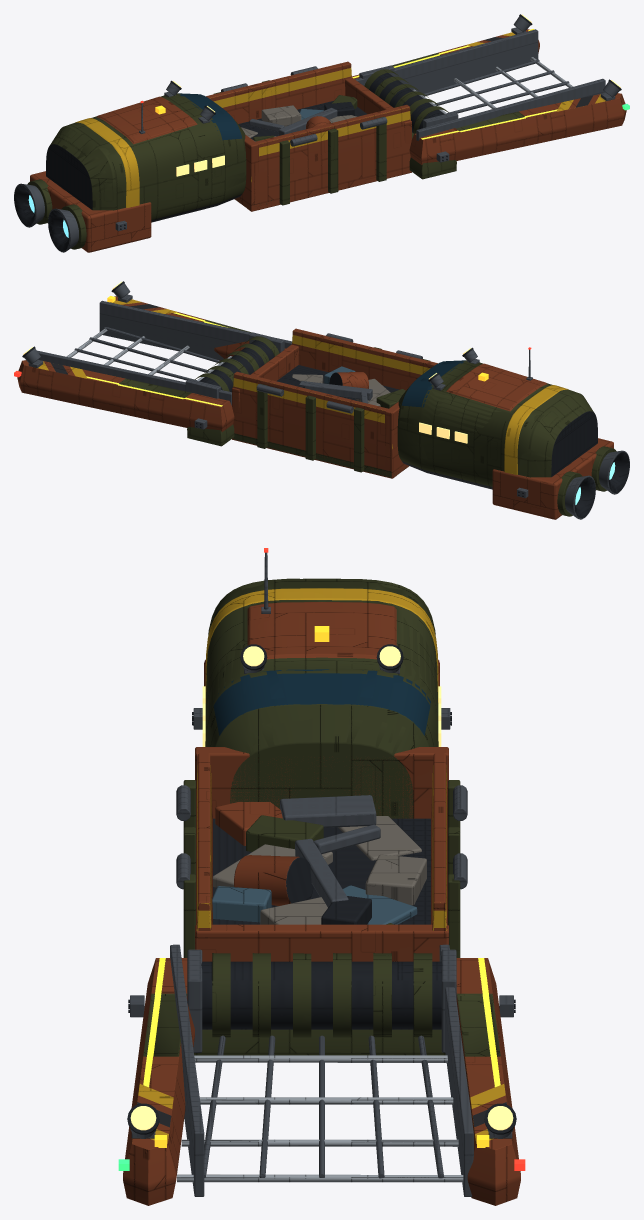
File: scrap_sweeper.glb
The picture shows the model from 3 angles, top to bottom: view 1: azimuth 30°, elevation 25°; view 2: azimuth 150°, elevation 25°; view 3: azimuth 270°, elevation 25°; orthographic projection. The views are drawn at different scales.
Visible parts, largest first — view 1: LOD0_MOTION_HULL_CORE_Hull, LOD0_MOTION_HULL_CORE_Mechanical, LOD0_MOTION_HULL_CORE_Armor, LOD1_MOTION_HULL_CORE_Armor, LOD2_MOTION_HULL_CORE_Armor, LOD0_MOTION_HULL_CORE_MechanicalDark, LOD0_MOTION_HULL_CORE_Warning, LOD1_MOTION_HULL_CORE_Hull, LOD2_MOTION_HULL_CORE_Mechanical, LOD2_MOTION_HULL_CORE_MechanicalDark, LOD0_MOTION_HULL_CORE_CANOPY, LOD0_MOTION_HULL_CORE_BrushedMetal_scrap (+4 smaller); view 2: LOD0_MOTION_HULL_CORE_Hull, LOD0_MOTION_HULL_CORE_Mechanical, LOD0_MOTION_HULL_CORE_Armor, LOD2_MOTION_HULL_CORE_Armor, LOD0_MOTION_HULL_CORE_MechanicalDark, LOD0_MOTION_HULL_CORE_Warning, LOD1_MOTION_HULL_CORE_Armor, LOD1_MOTION_HULL_CORE_Hull, LOD2_MOTION_HULL_CORE_Mechanical, LOD2_MOTION_HULL_CORE_MechanicalDark, LOD0_MOTION_HULL_CORE_CANOPY, LOD0_MOTION_HULL_CORE_BrushedMetal_scrap (+5 smaller); view 3: LOD0_MOTION_HULL_CORE_Hull, LOD0_MOTION_HULL_CORE_Armor, LOD0_MOTION_HULL_CORE_Mechanical, LOD0_MOTION_HULL_CORE_MechanicalDark, LOD1_MOTION_HULL_CORE_Armor, LOD2_MOTION_HULL_CORE_Armor, LOD0_MOTION_HULL_CORE_CANOPY, LOD0_MOTION_HULL_CORE_BrushedMetal, LOD0_MOTION_HULL_CORE_BrushedMetal_scrap, LOD0_MOTION_HULL_CORE_Warning, LOD2_MOTION_HULL_CORE_BrushedMetal, LOD1_MOTION_HULL_CORE_MechanicalDark (+7 smaller).
Part boxes in pixels (box(x1,y1,x2,y2)): LOD0_MOTION_HULL_CORE_Hull: box(30, 29, 626, 252); LOD0_MOTION_HULL_CORE_Mechanical: box(14, 16, 619, 252); LOD0_MOTION_HULL_CORE_Armor: box(27, 53, 526, 249); LOD1_MOTION_HULL_CORE_Armor: box(33, 53, 526, 249); LOD2_MOTION_HULL_CORE_Armor: box(35, 69, 456, 243); LOD0_MOTION_HULL_CORE_MechanicalDark: box(14, 14, 621, 251); LOD0_MOTION_HULL_CORE_Warning: box(76, 32, 605, 207); LOD1_MOTION_HULL_CORE_Hull: box(30, 45, 623, 252); LOD2_MOTION_HULL_CORE_Mechanical: box(14, 60, 568, 252); LOD2_MOTION_HULL_CORE_MechanicalDark: box(14, 109, 354, 250); LOD0_MOTION_HULL_CORE_CANOPY: box(178, 93, 242, 140); LOD0_MOTION_HULL_CORE_BrushedMetal_scrap: box(241, 105, 356, 137); LOD0_MOTION_HULL_CORE_Hull: box(17, 296, 613, 519); LOD0_MOTION_HULL_CORE_Mechanical: box(24, 283, 629, 519); LOD0_MOTION_HULL_CORE_Armor: box(117, 320, 616, 516); LOD2_MOTION_HULL_CORE_Armor: box(126, 336, 606, 514); LOD0_MOTION_HULL_CORE_MechanicalDark: box(22, 281, 629, 518); LOD0_MOTION_HULL_CORE_Warning: box(37, 299, 566, 474); LOD1_MOTION_HULL_CORE_Armor: box(117, 320, 613, 516); LOD1_MOTION_HULL_CORE_Hull: box(20, 344, 613, 519); LOD2_MOTION_HULL_CORE_Mechanical: box(75, 328, 629, 519); LOD2_MOTION_HULL_CORE_MechanicalDark: box(551, 411, 629, 517); LOD0_MOTION_HULL_CORE_CANOPY: box(401, 360, 465, 406); LOD0_MOTION_HULL_CORE_BrushedMetal_scrap: box(292, 374, 390, 406); LOD0_MOTION_HULL_CORE_Hull: box(123, 602, 520, 1205); LOD0_MOTION_HULL_CORE_Armor: box(147, 580, 495, 1056); LOD0_MOTION_HULL_CORE_Mechanical: box(130, 552, 513, 1196); LOD0_MOTION_HULL_CORE_MechanicalDark: box(127, 644, 516, 1134); LOD1_MOTION_HULL_CORE_Armor: box(143, 578, 500, 1056); LOD2_MOTION_HULL_CORE_Armor: box(151, 578, 492, 1056); LOD0_MOTION_HULL_CORE_CANOPY: box(213, 673, 430, 735); LOD0_MOTION_HULL_CORE_BrushedMetal: box(177, 1055, 463, 1181); LOD0_MOTION_HULL_CORE_BrushedMetal_scrap: box(212, 816, 426, 924); LOD0_MOTION_HULL_CORE_Warning: box(138, 588, 505, 1143); LOD2_MOTION_HULL_CORE_BrushedMetal: box(177, 1055, 463, 1182); LOD1_MOTION_HULL_CORE_MechanicalDark: box(128, 657, 516, 1134).
Size of what is drawn, in the model's own units: 20.17 by 4.5 by 6.56.
16 materials, 9 textured.
